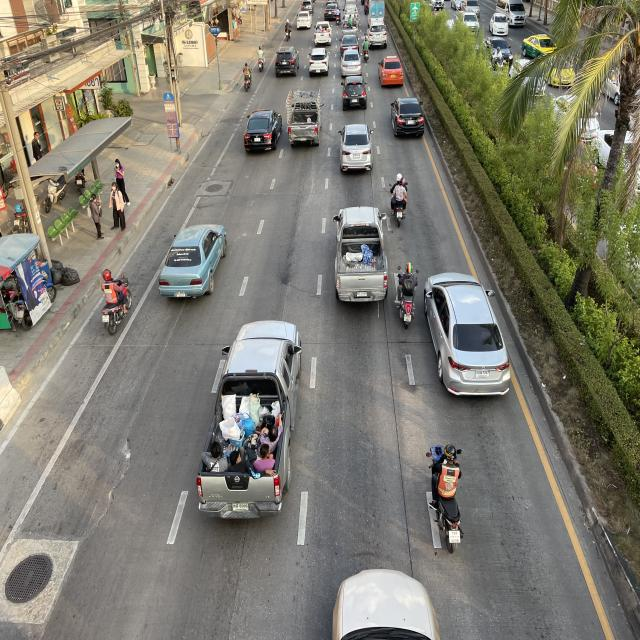bike: (424, 433, 470, 558), (96, 261, 136, 344), (396, 258, 418, 330), (389, 172, 408, 230)
car: (422, 270, 513, 399), (157, 221, 228, 302), (337, 122, 375, 175), (242, 107, 283, 154), (390, 95, 426, 140)
truck: (195, 317, 304, 522), (332, 204, 390, 307), (286, 88, 324, 148)
